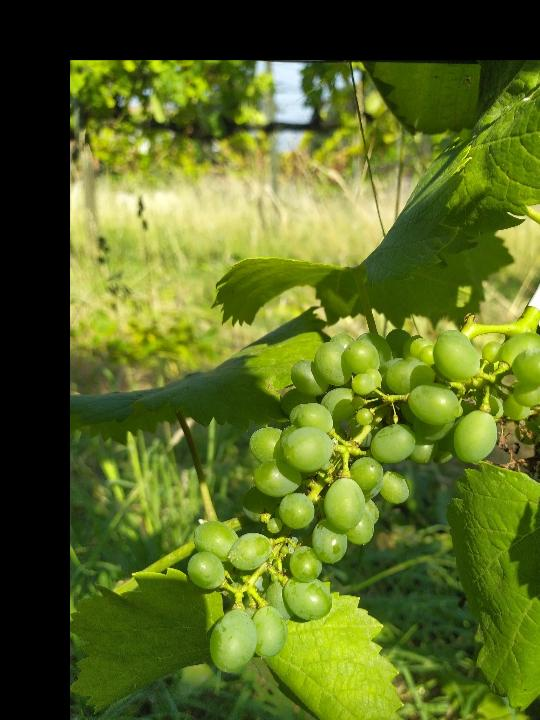grape: (182, 319, 540, 684)
